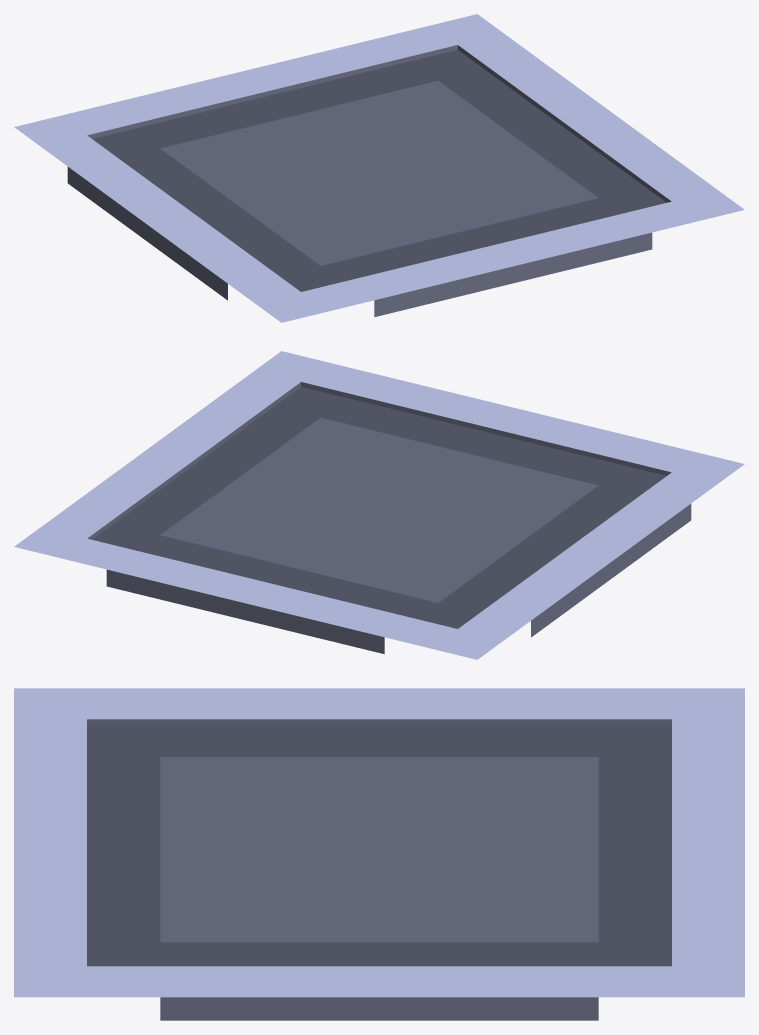
File: road-square.glb
3 views of the same model, one above another, from view 1: azimuth 30°, elevation 25°; view 2: azimuth 150°, elevation 25°; view 3: azimuth 270°, elevation 25° (orthographic). The views are drawn at different scales.
Visible parts, largest first — view 1: road-square; view 2: road-square; view 3: road-square.
Part boxes in pixels (box(x1,y1,x2,y2)): road-square: box(14, 14, 744, 322); road-square: box(14, 351, 744, 659); road-square: box(14, 688, 744, 1020).
Size of the model in its own units: 1 by 0.035 by 1.
Materials: 1 (1 with a texture image).
